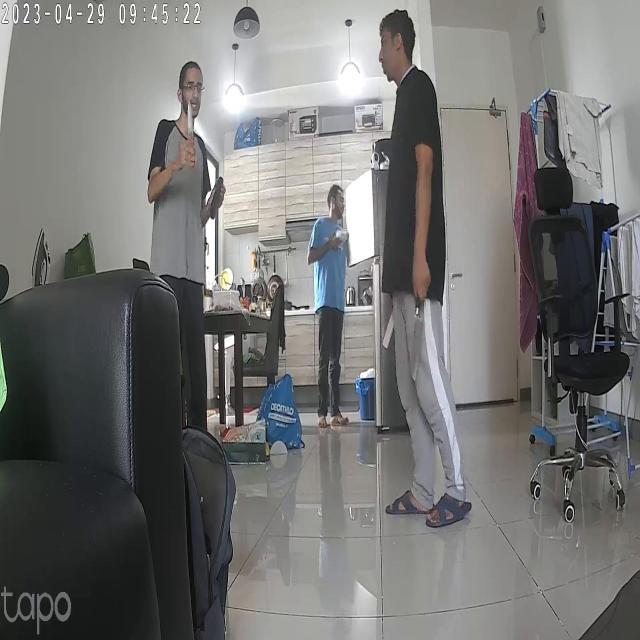Knife: (401, 296, 429, 386), (185, 99, 202, 152)
